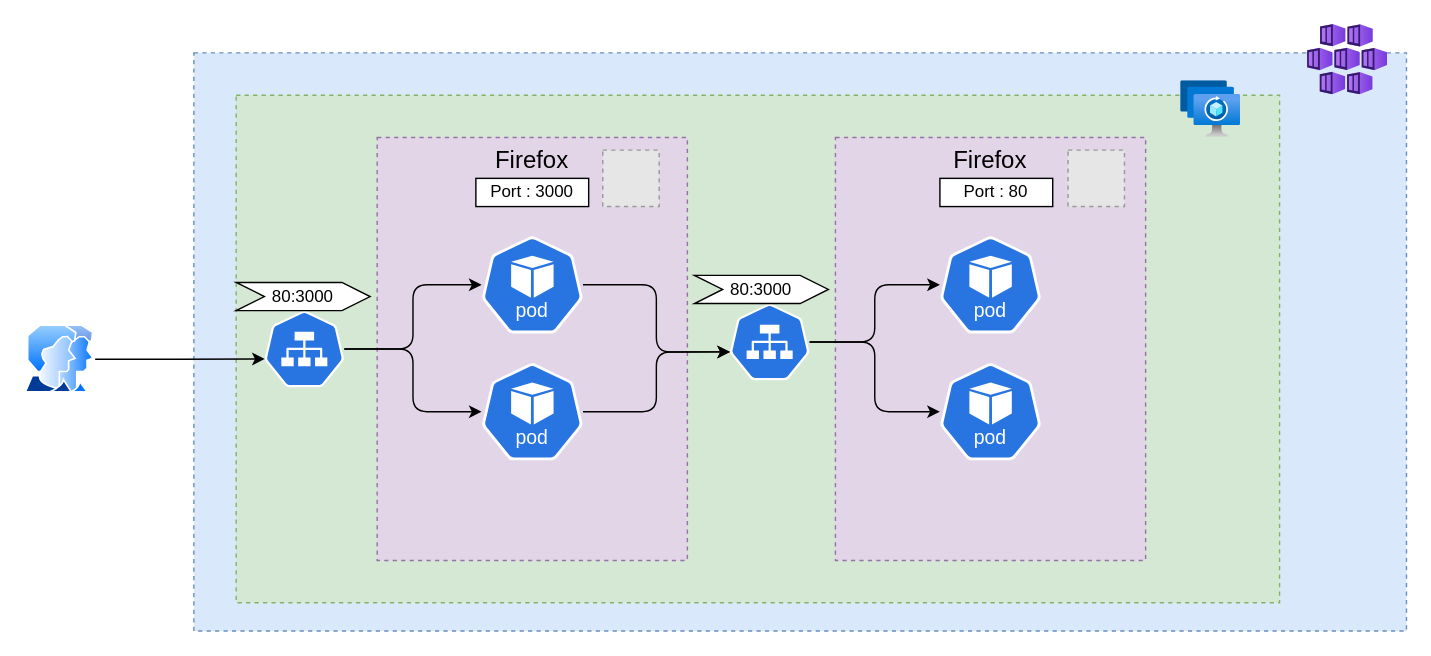
Image size: 1431x656. Some labels were removed from this diagram. Grey dashed boxes stand in for pictures. The centre of each missing label's shape, as x and y in pixels:
"svc - nginx" belongs at (x=769, y=341).
"svc-firefox" belongs at (x=303, y=348).
